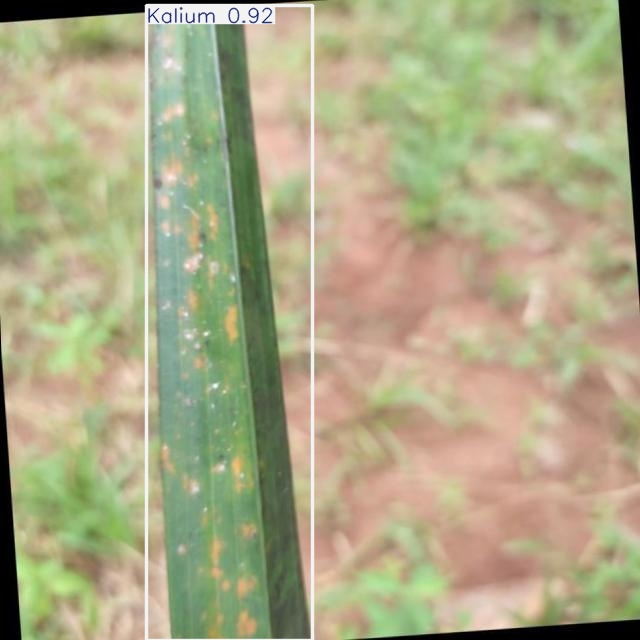Kalium: (147, 6, 312, 640)
